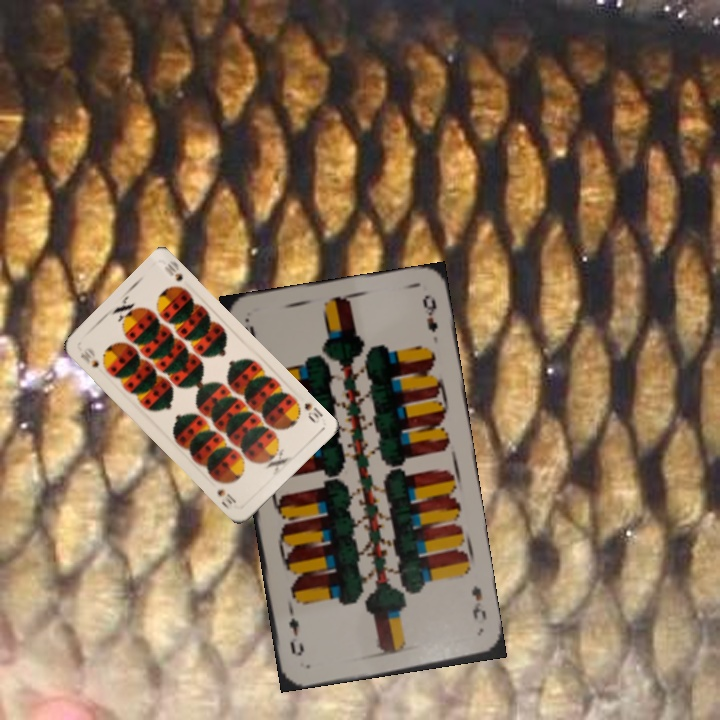E9: (467, 582, 489, 623)
S10: (300, 399, 326, 426), (76, 344, 102, 370)
